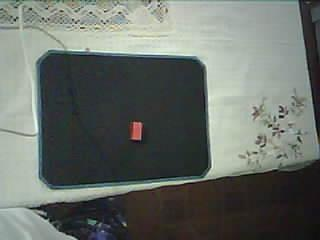lego: (129, 121, 143, 141)
